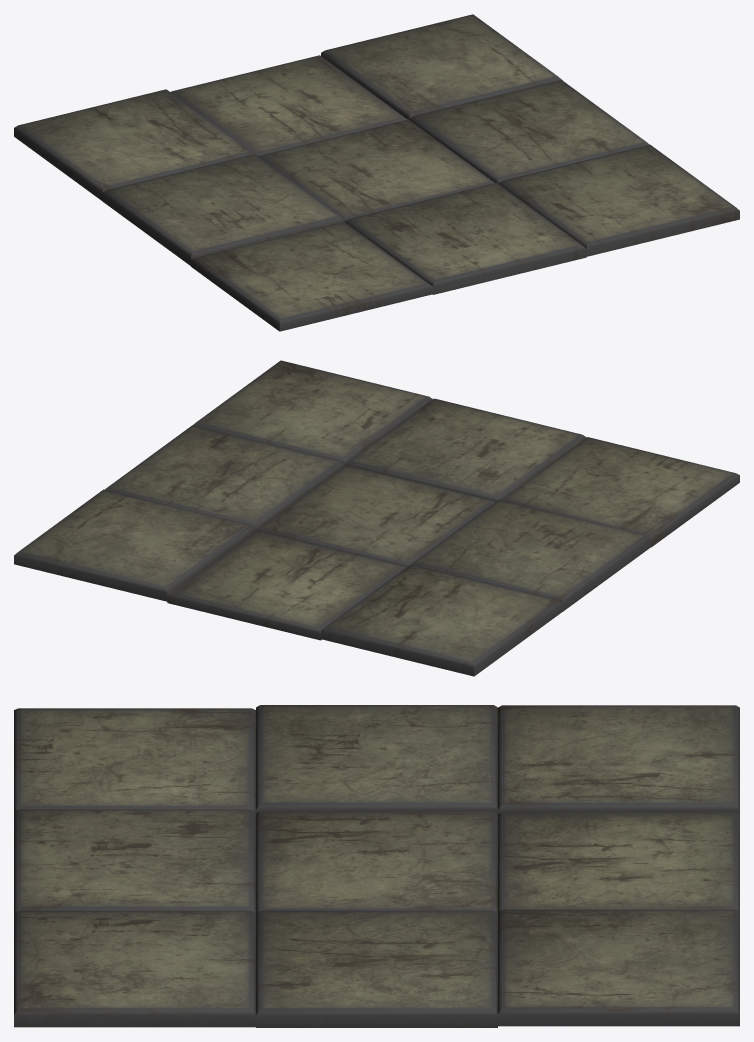
File: SM_StoneFloor9x9.fbx
3 renders of one model, top to bottom at view 1: azimuth 30°, elevation 25°; view 2: azimuth 150°, elevation 25°; view 3: azimuth 270°, elevation 25°, orthographic. The views are drawn at different scales.
Visible parts, largest first — view 1: SM_StoneFloor9x9; view 2: SM_StoneFloor9x9; view 3: SM_StoneFloor9x9.
Boxes of the visible parts, x1,y1,x2,y2 form: SM_StoneFloor9x9: (14,14,739,331); SM_StoneFloor9x9: (14,360,739,676); SM_StoneFloor9x9: (14,705,739,1027).
Size of the model in its own units: 900 by 25.51 by 900.
